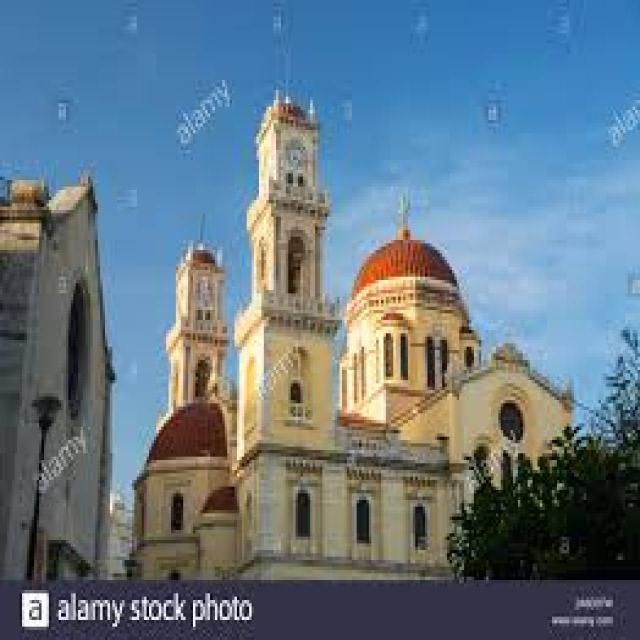Agios Minas: (127, 98, 577, 582)
